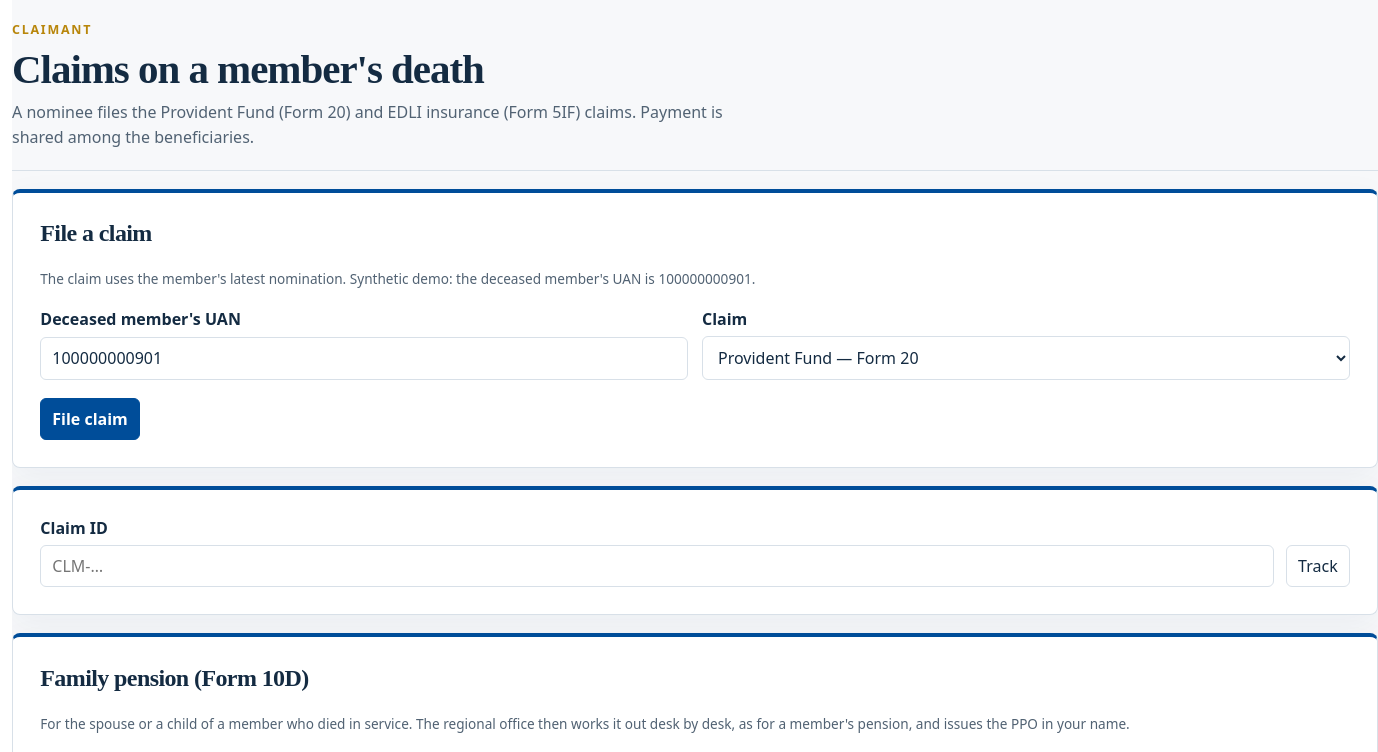
it: composite death filing shows the reference and both claims
Select "Composite claim (PF and EDLI)" in the dropdown labelled "Claim" at (1026, 358), box [702,336,1350,380]
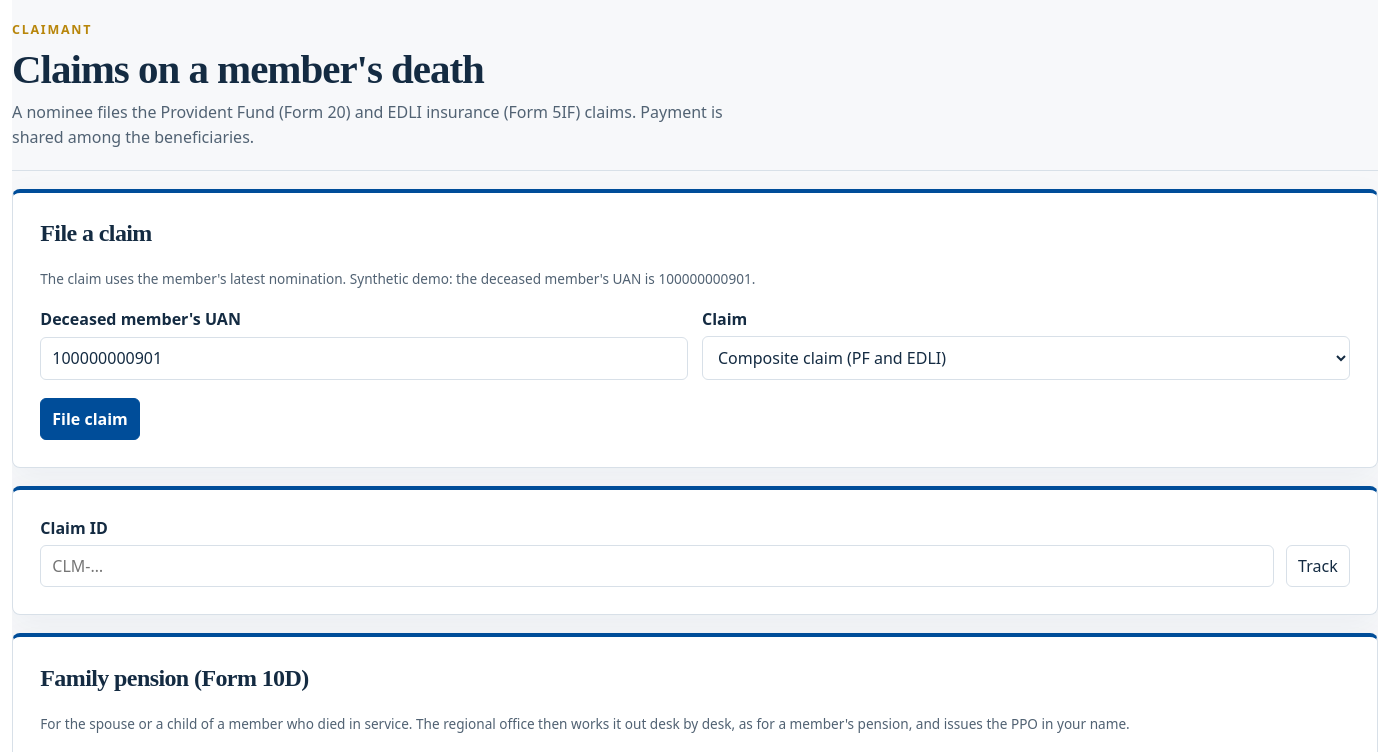
Click the button "File claim".
click(90, 418)  # box [40,398,140,440]
(page scrolled)
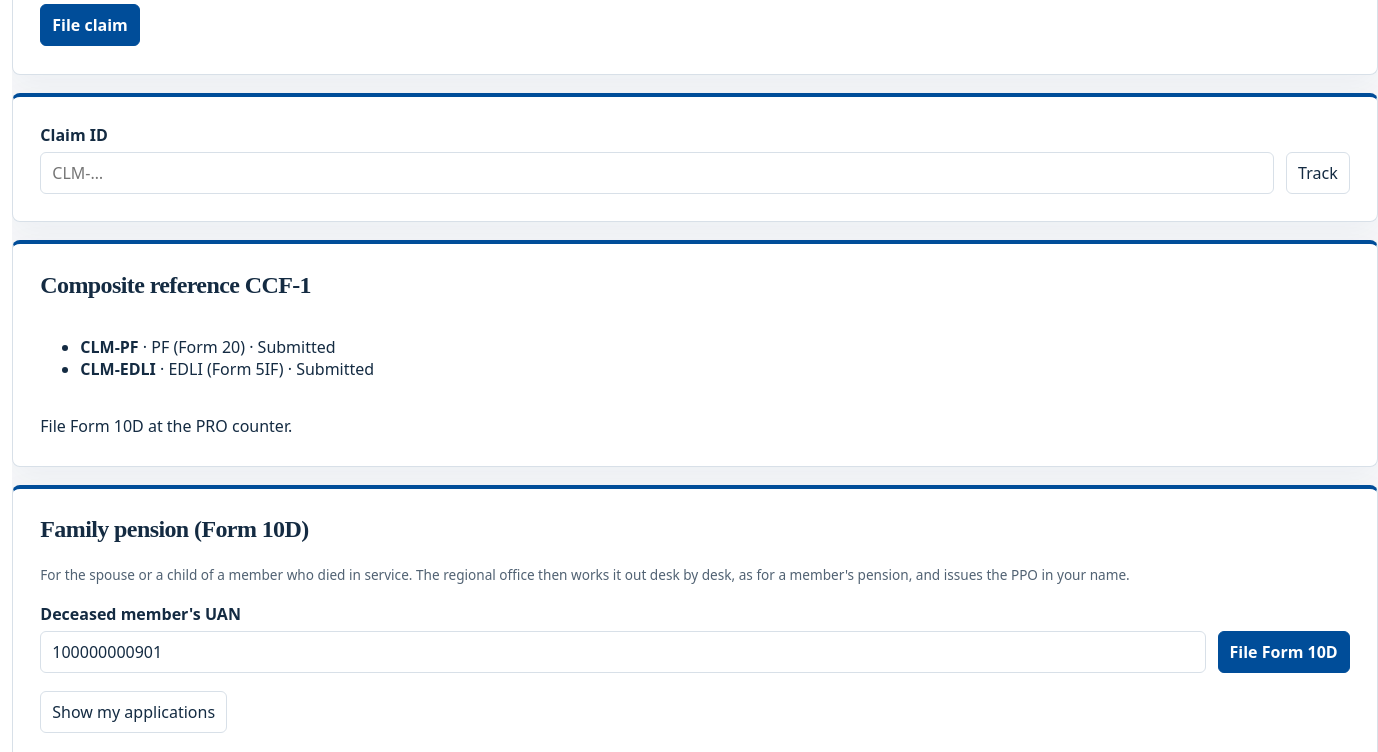
Expected: the heading "Composite reference CCF-1" is shown, [40,272,311,298]
Expected: the text "CLM-PF" is shown, [80,336,139,358]
Expected: the text "CLM-EDLI" is shown, [80,358,156,380]
